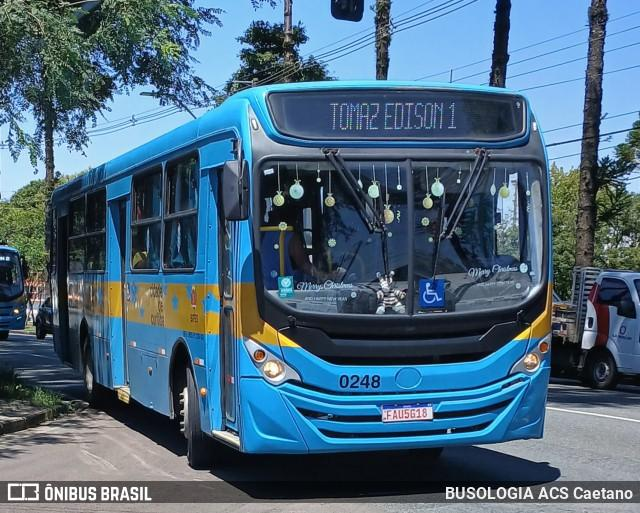TOMAZ EDISON 1: (324, 97, 463, 136)
